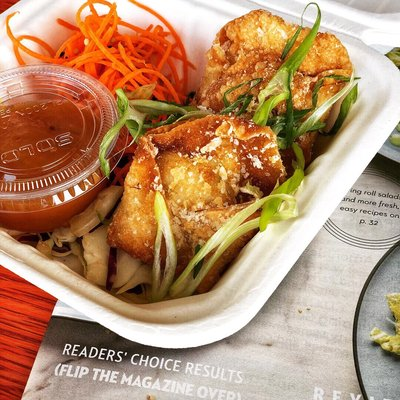pizza: (0, 63, 133, 233)
soup: (195, 6, 359, 171)
sushi: (0, 64, 122, 234), (352, 237, 400, 400)
